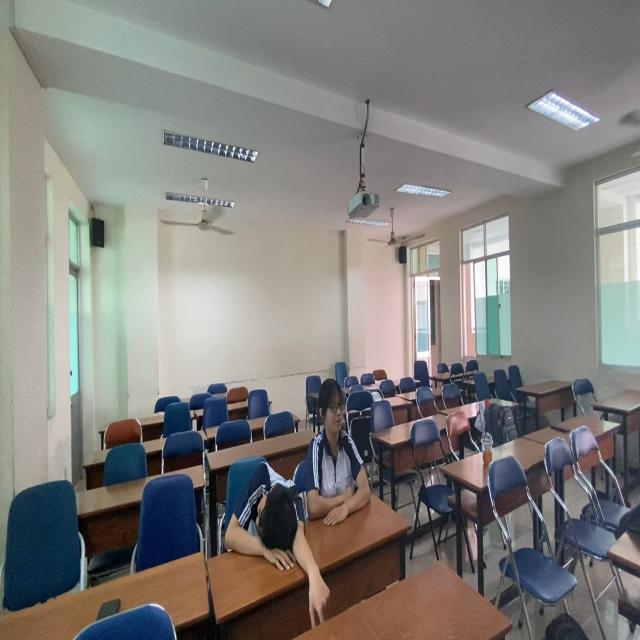sleep: (225, 449, 311, 576)
